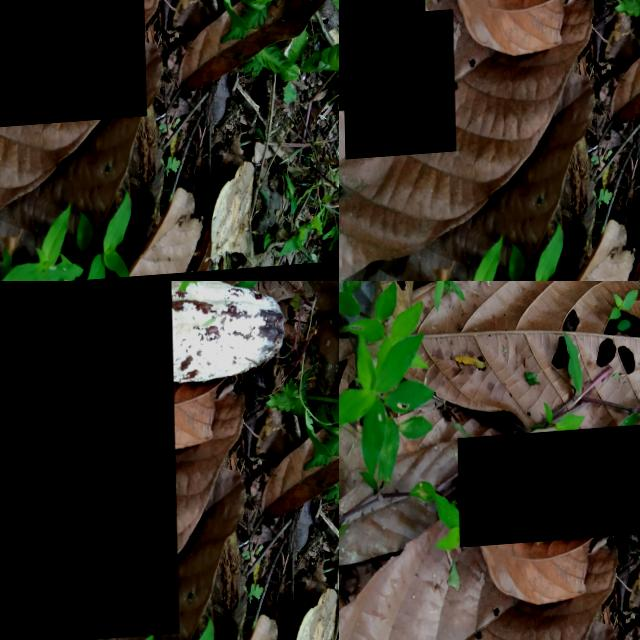Fitoftora: (414, 0, 609, 171)
Monilia: (456, 430, 640, 551)
Sana: (0, 281, 175, 640), (0, 0, 144, 134), (341, 13, 454, 162), (427, 188, 472, 281)
